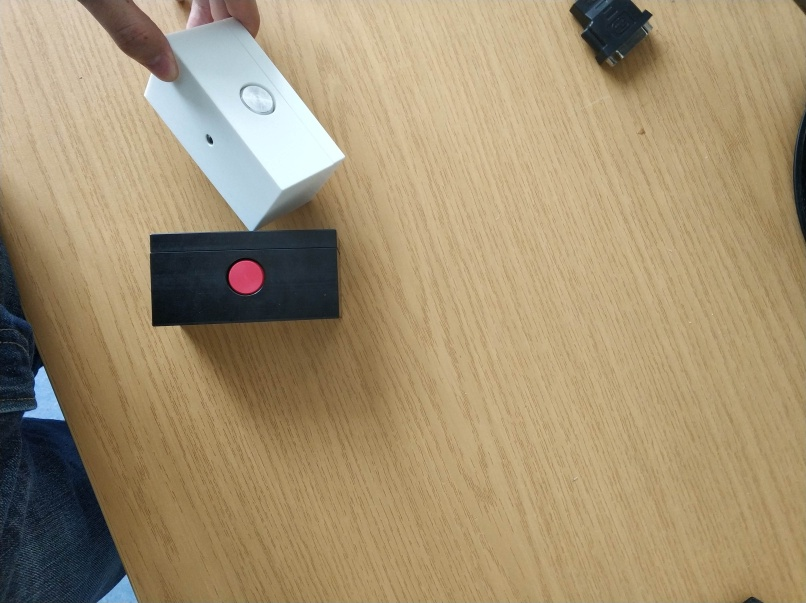black+black+red: (148, 226, 343, 331)
white+white+silver: (141, 15, 349, 233)
